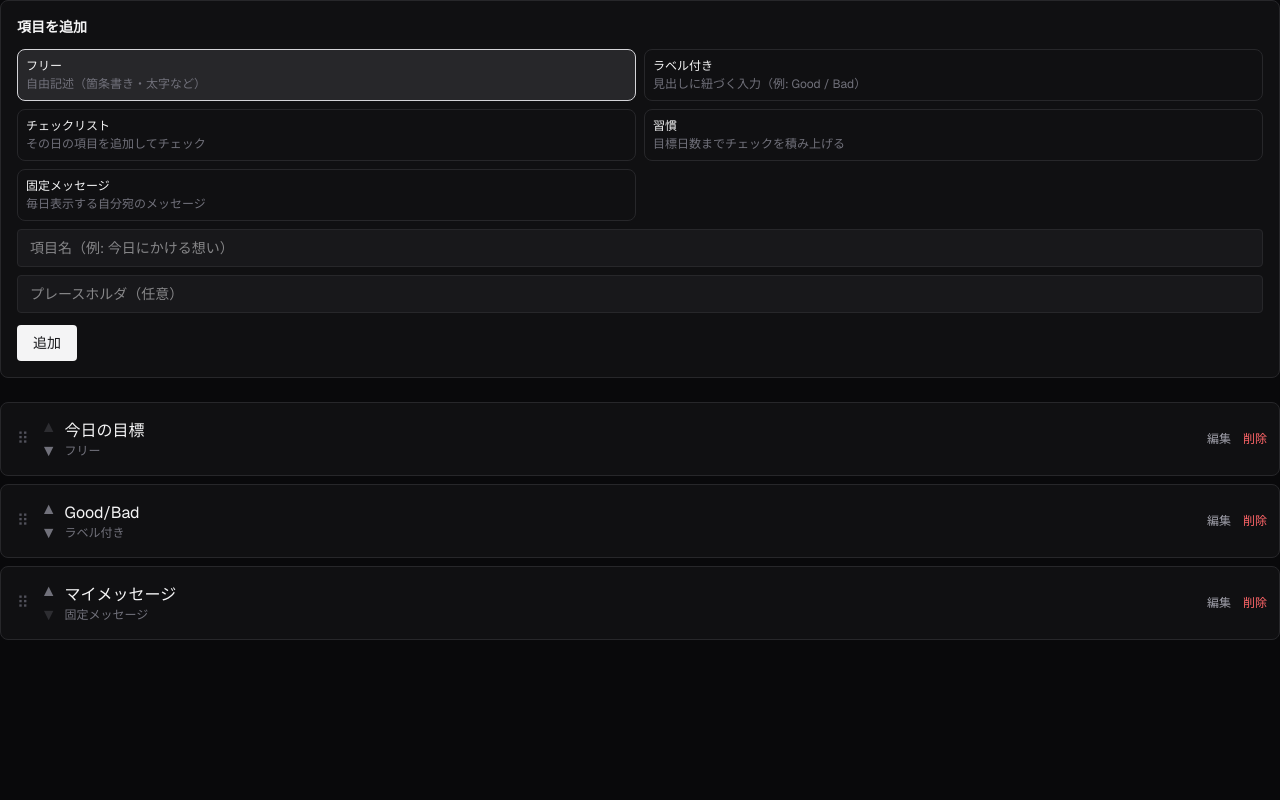
Test case: ComponentManager（追加） › テンプレに応じて追加用の入力欄が切り替わる
Expected: the field with placeholder "プレースホルダ（任意）" is shown, [17,275,1263,313]
Click the button "チェックリスト その日の項目を追加してチェック".
click(68, 126)  # box [17,109,636,161]
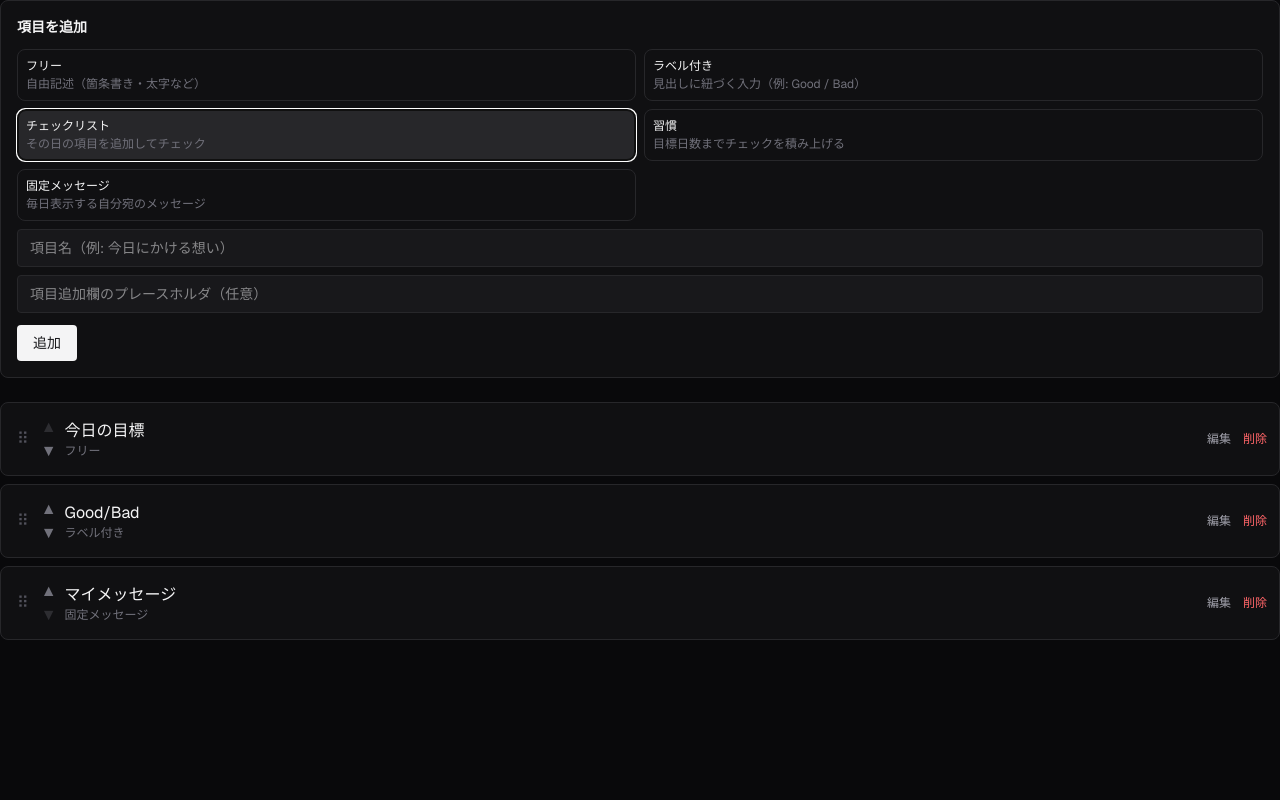
Now the field with placeholder "項目追加欄のプレースホルダ（任意）" is shown, box [17,275,1263,313]
Click the button "習慣 目標日数までチェックを積み上げる".
click(749, 144)  # box [644,109,1263,161]
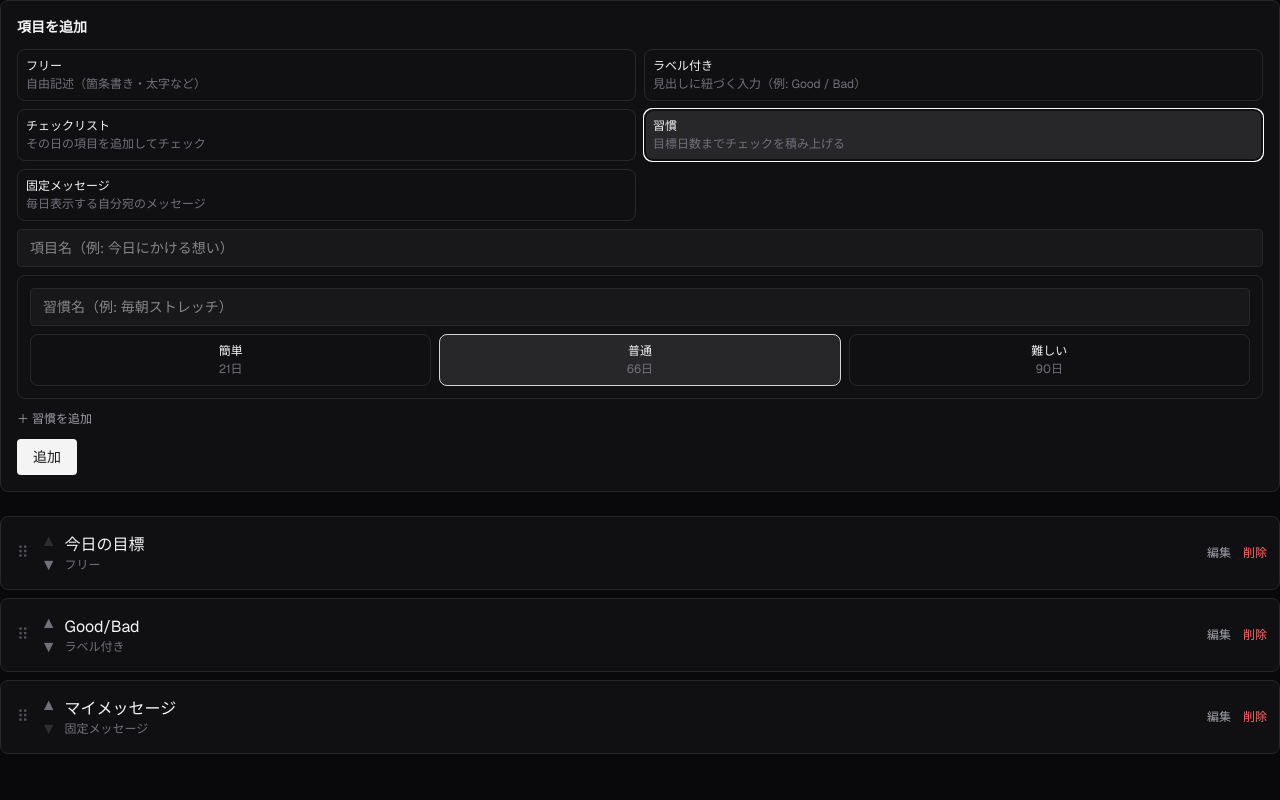
Expected: the field with placeholder "プレースホルダ" is not shown
Now the field with placeholder "習慣名（例: 毎朝ストレッチ）" is shown, box [30,288,1250,326]
